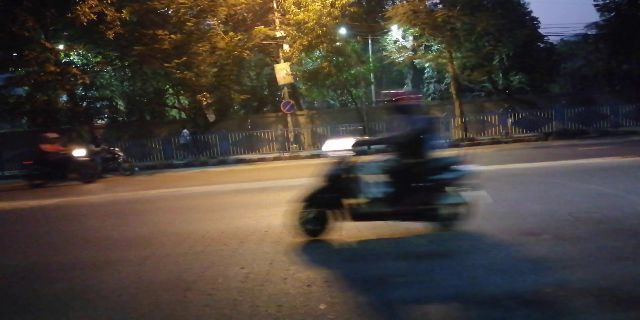Motorbike: (279, 98, 491, 237), (18, 122, 103, 187)
